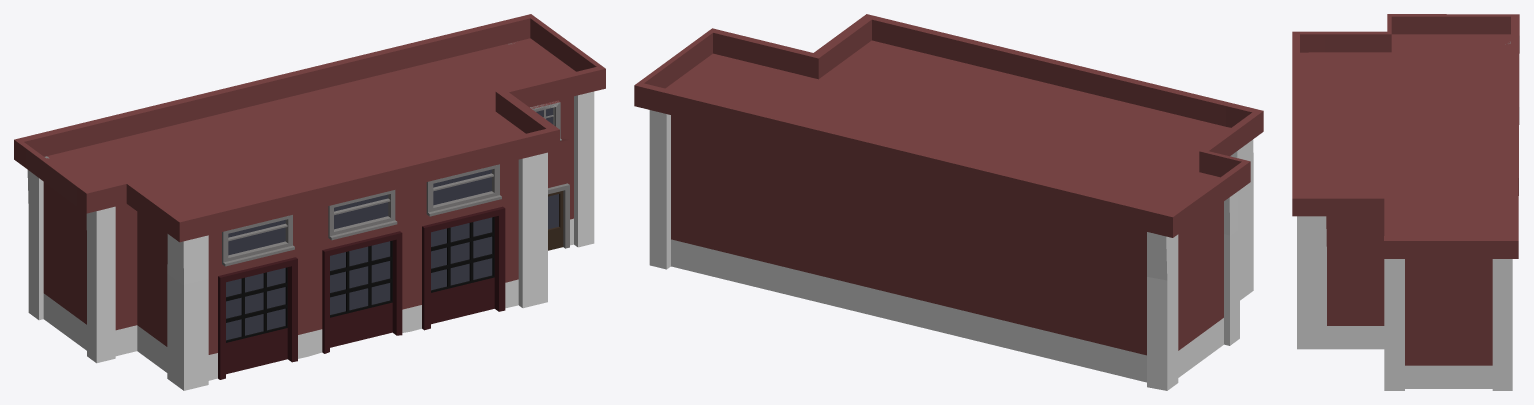
The model's file is fire station.fbx.
3 views of the same model, side by side, from view 1: azimuth 30°, elevation 25°; view 2: azimuth 150°, elevation 25°; view 3: azimuth 270°, elevation 25° (orthographic). The views are drawn at different scales.
Visible parts, largest first — view 1: Cube.002; view 2: Cube.002; view 3: Cube.002.
Part boxes in pixels (x1,y1,x2,y2): Cube.002: (14, 14, 605, 390); Cube.002: (634, 14, 1263, 390); Cube.002: (1292, 14, 1519, 390).
Size of the model in its own units: 2318 by 737 by 980.
